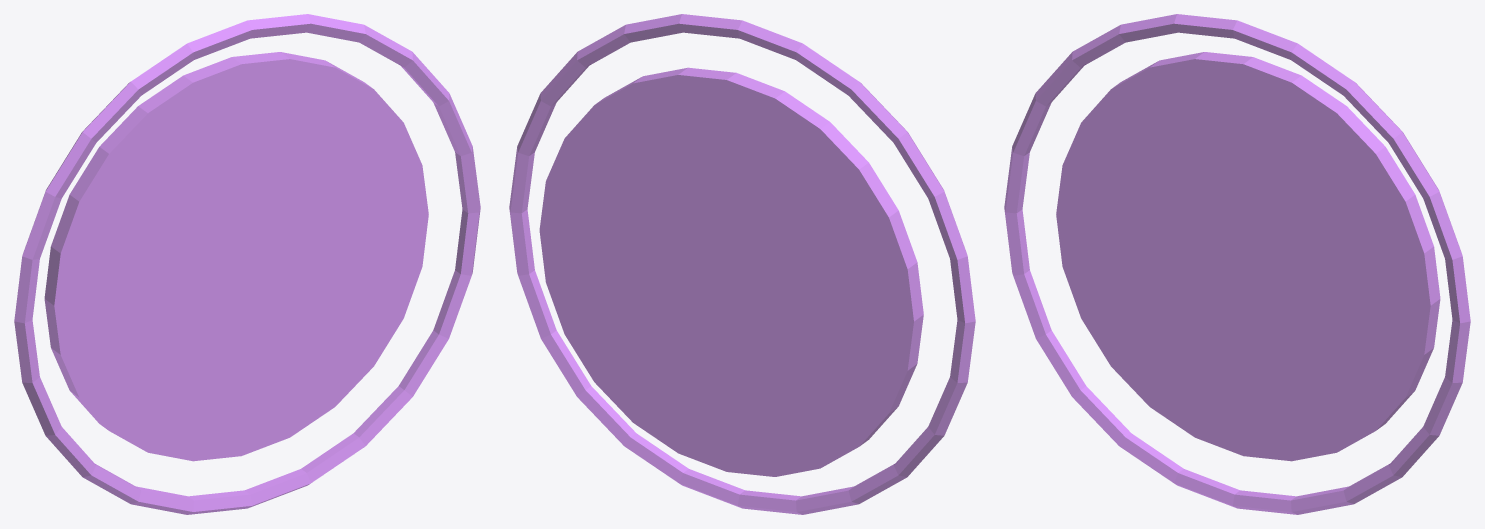
File: rarity_base_epic.glb
3 renders of one model, left to right at view 1: azimuth 30°, elevation 25°; view 2: azimuth 150°, elevation 25°; view 3: azimuth 330°, elevation 25°, orthographic.
Parts seen in each view (by area): view 1: base_disc, outer_ring; view 2: base_disc, outer_ring; view 3: base_disc, outer_ring.
Boxes of the visible parts, x1,y1,x2,y2 form: base_disc: [44, 52, 428, 461]; outer_ring: [14, 14, 480, 514]; base_disc: [539, 67, 923, 476]; outer_ring: [509, 14, 975, 514]; base_disc: [1056, 52, 1440, 461]; outer_ring: [1004, 14, 1470, 514].
Bounding box in the file's own units: 1.37 × 1.37 × 0.1038.
